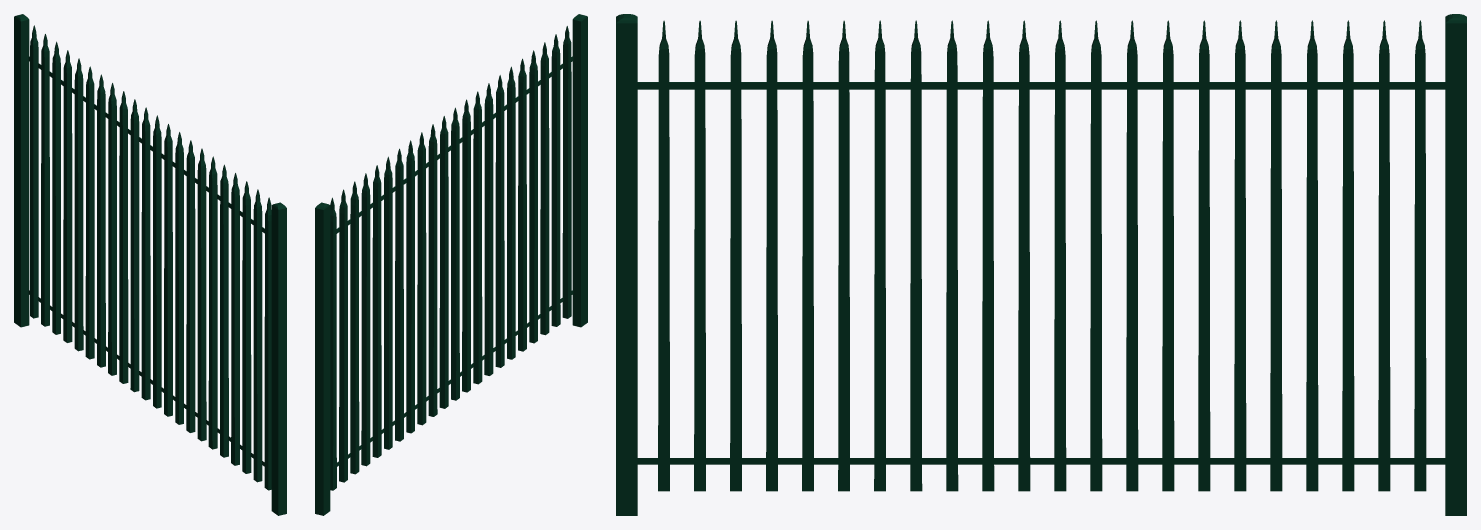
File: green spikey fence all parts new export settings CURRENT.fbx
The picture shows the model from 3 angles, left to right: view 1: azimuth 30°, elevation 25°; view 2: azimuth 150°, elevation 25°; view 3: azimuth 270°, elevation 25°; orthographic projection. The views are drawn at different scales.
Visible parts, largest first — view 1: joined mesh of all fence parts; view 2: joined mesh of all fence parts; view 3: joined mesh of all fence parts.
Boxes of the visible parts, left/top/right/bottom form: joined mesh of all fence parts: left=14, top=14, right=286, bottom=515; joined mesh of all fence parts: left=315, top=14, right=587, bottom=515; joined mesh of all fence parts: left=616, top=14, right=1466, bottom=515.
Size of the model in its own units: 0.2996 by 16.15 by 10.4.
